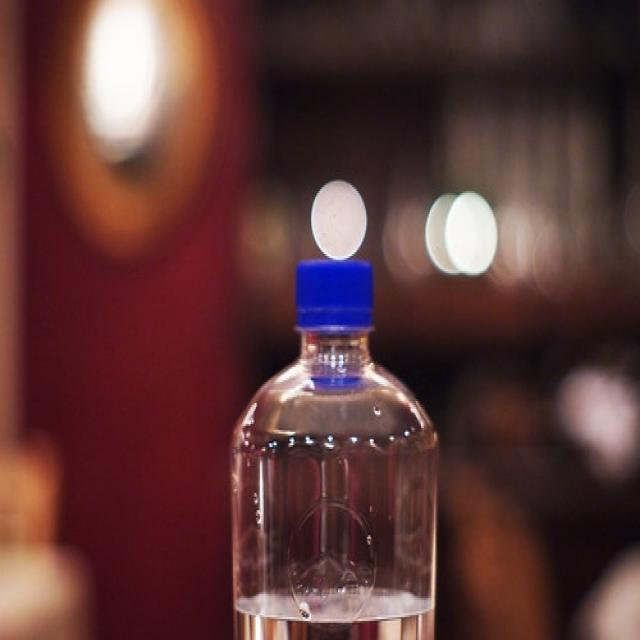bottle: (229, 260, 439, 640)
